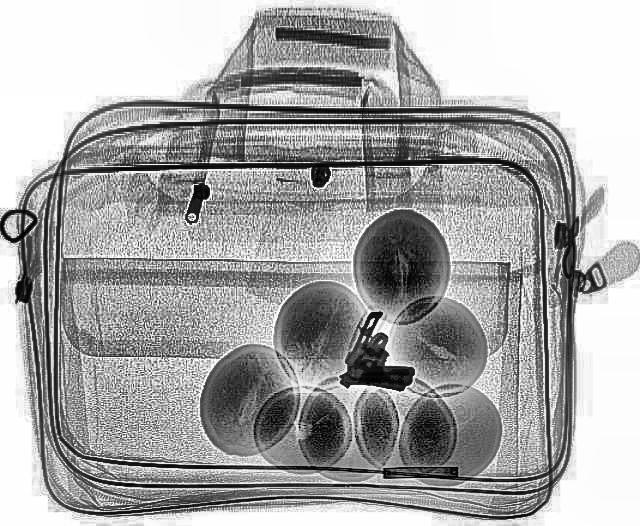Gun: (333, 308, 433, 400), (346, 327, 432, 391)
